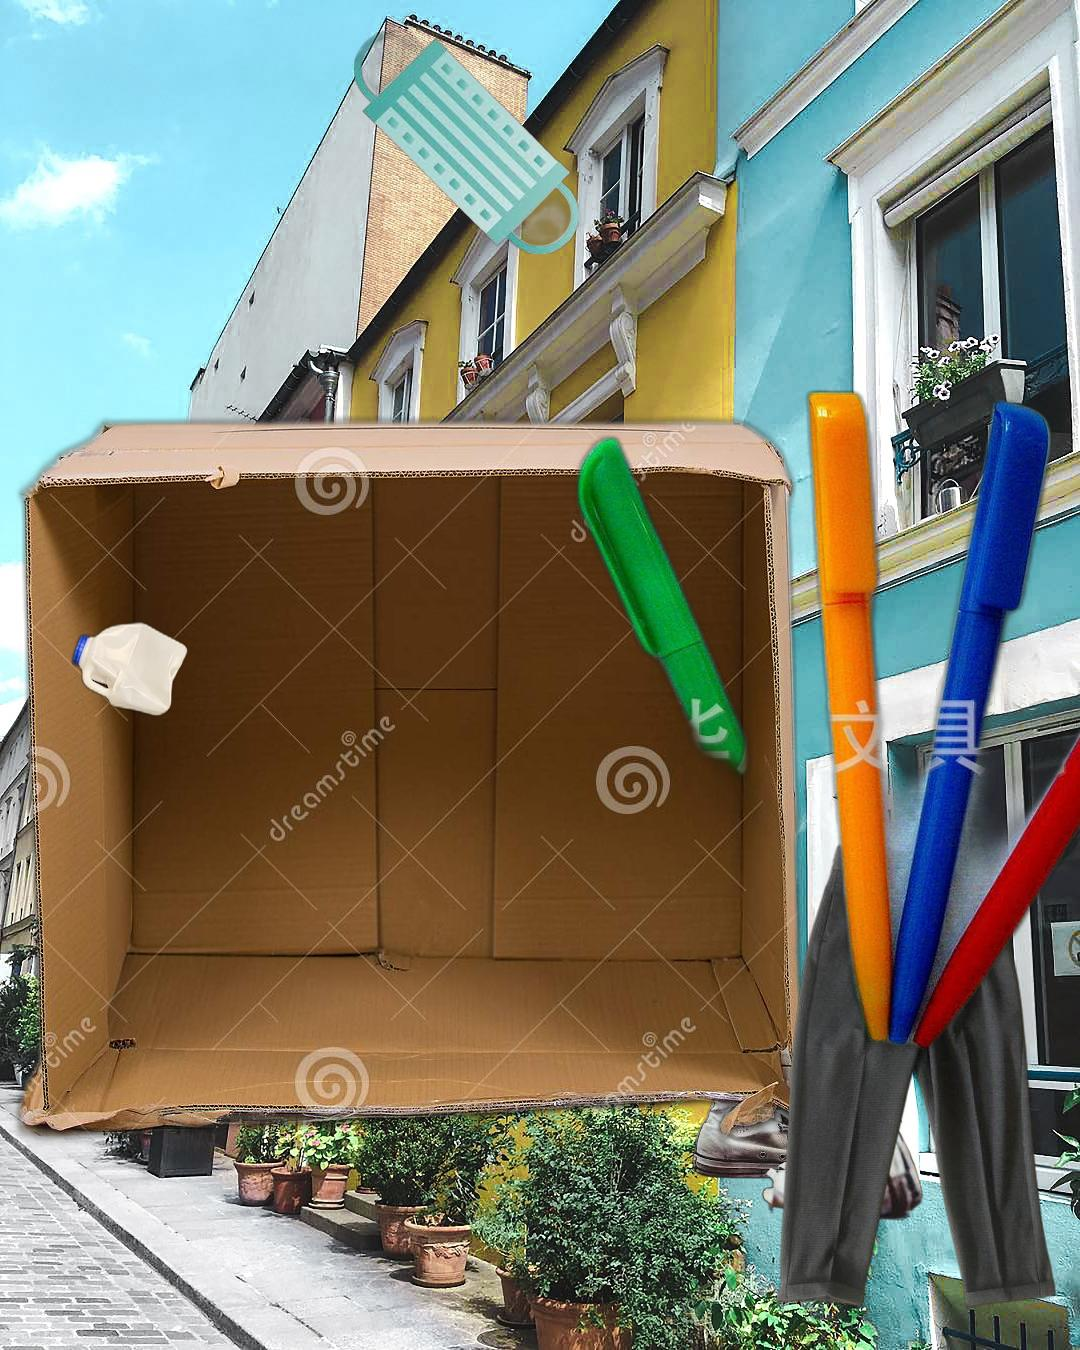clothes: (774, 832, 1059, 1350)
penholder: (566, 384, 1080, 1061)
plastic-bottles: (67, 617, 192, 722)
shoes: (688, 1065, 926, 1224)
trash: (354, 30, 579, 253)
trashbox-cardboard: (6, 406, 823, 1152)
